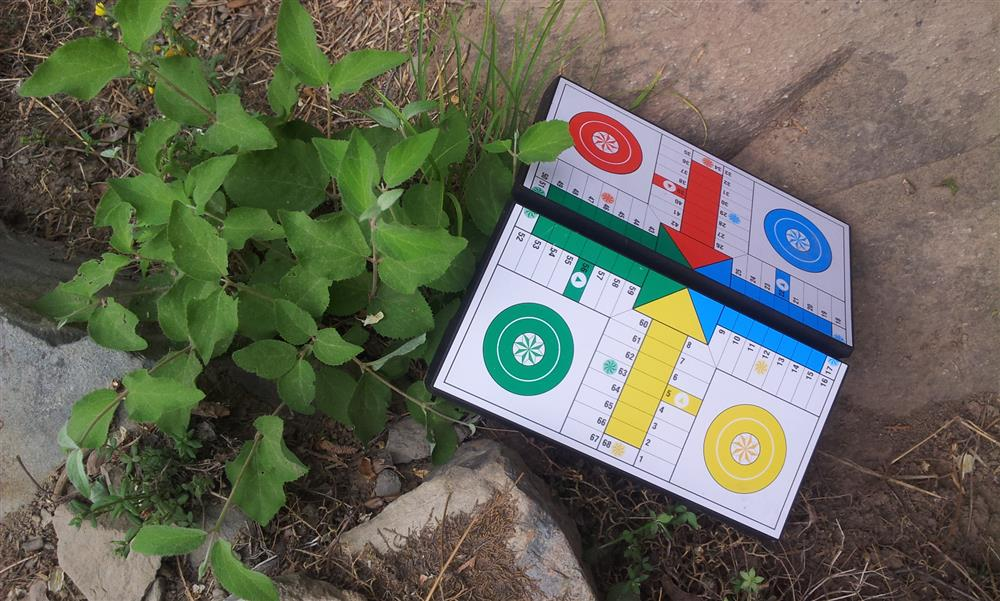parchis: (421, 58, 875, 552)
